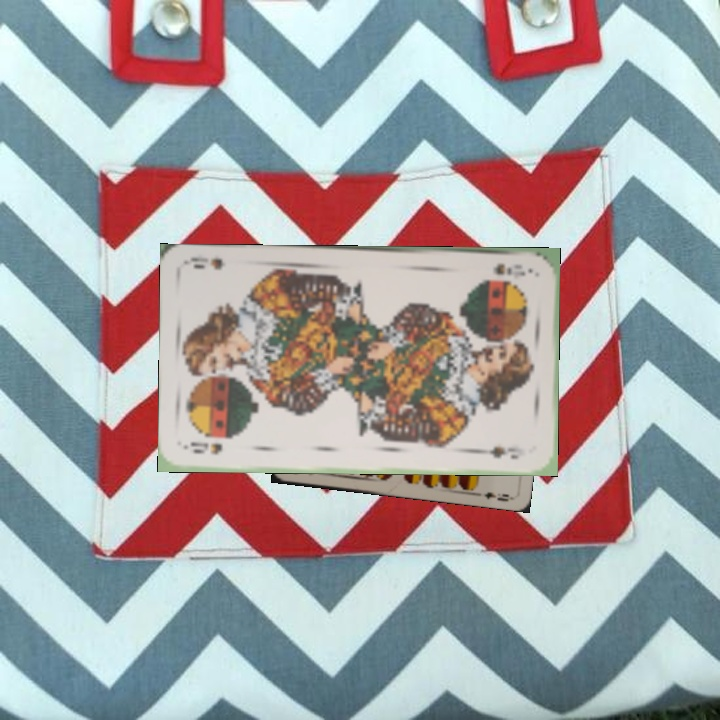SO: (489, 260, 527, 281), (187, 438, 225, 457)
